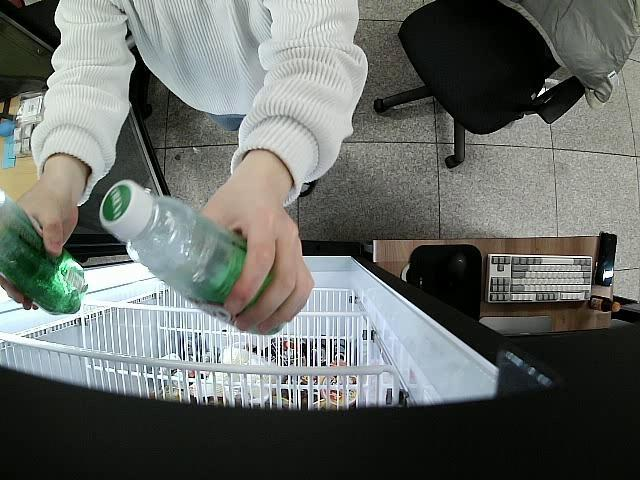18_trevi: (98, 179, 286, 334), (0, 186, 90, 317)
